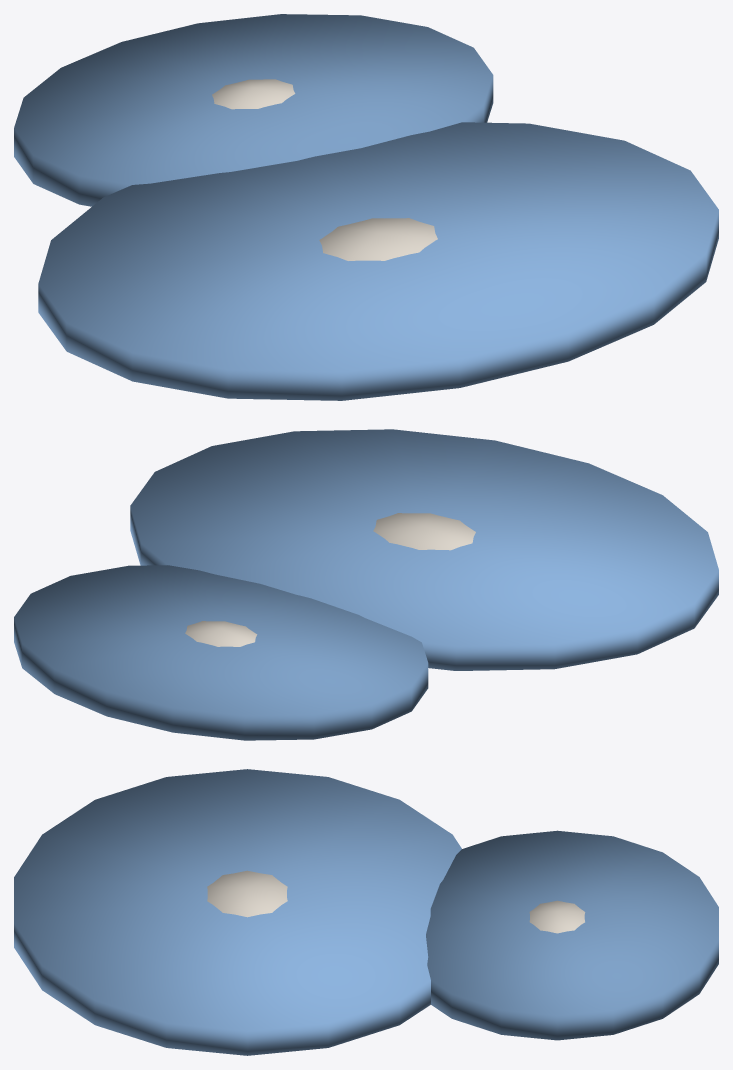
File: SH_Fly_Wing_Blue.fbx
3 renders of one model, top to bottom at view 1: azimuth 30°, elevation 25°; view 2: azimuth 150°, elevation 25°; view 3: azimuth 270°, elevation 25°, orthographic. The views are drawn at different scales.
Parts seen in each view (by area): view 1: SH_Fly_Wing_Blue; view 2: SH_Fly_Wing_Blue; view 3: SH_Fly_Wing_Blue.
Part boxes in pixels (x1,y1,x2,y2): SH_Fly_Wing_Blue: (14, 14, 718, 400); SH_Fly_Wing_Blue: (14, 429, 718, 740); SH_Fly_Wing_Blue: (14, 769, 718, 1055).
Bounding box in the file's own units: 0.068 × 0.00578 × 0.0773.
